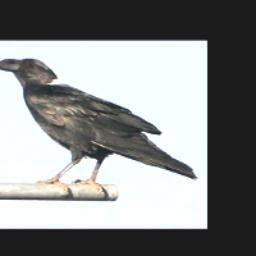Crow: (0, 56, 197, 199)
